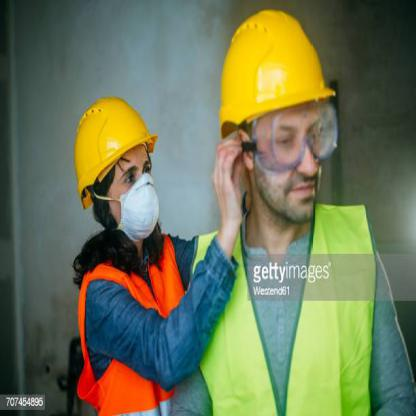Glove: (219, 8, 336, 122), (74, 93, 153, 199)
